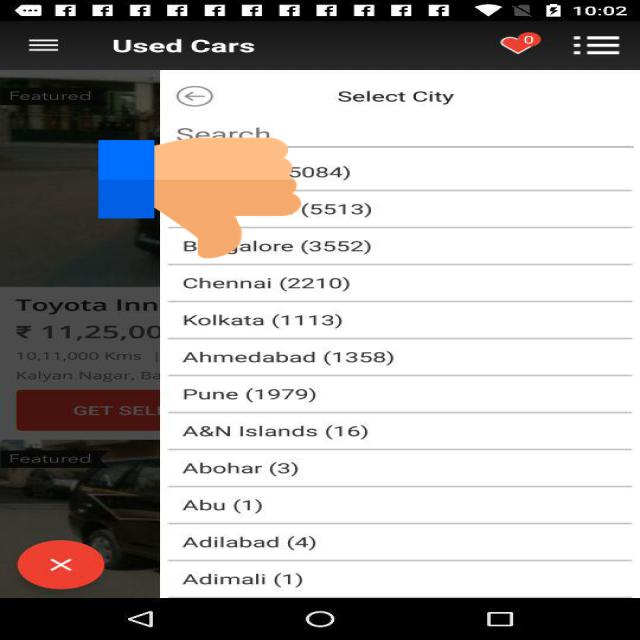obstruction: (98, 135, 301, 261)
